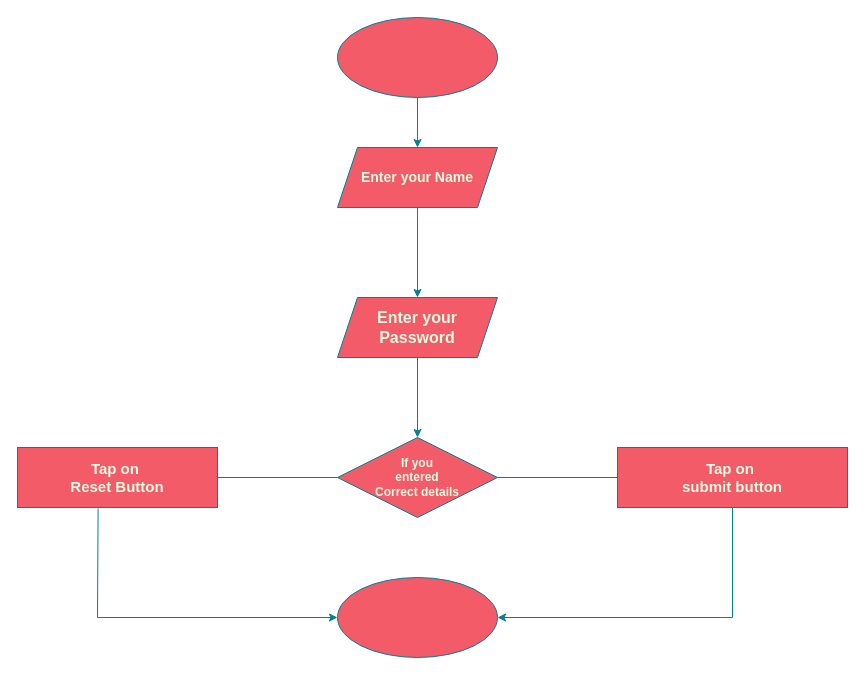
Image size: 865x675. Some labels were removed from this diagram. Each missing label, with the centre of its shape:
End: the point at 417,617
Open fron the website: the point at 417,57
